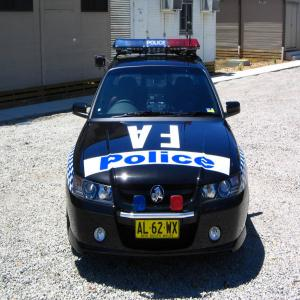Vehicle-registration-plate: (122, 219, 191, 246)
